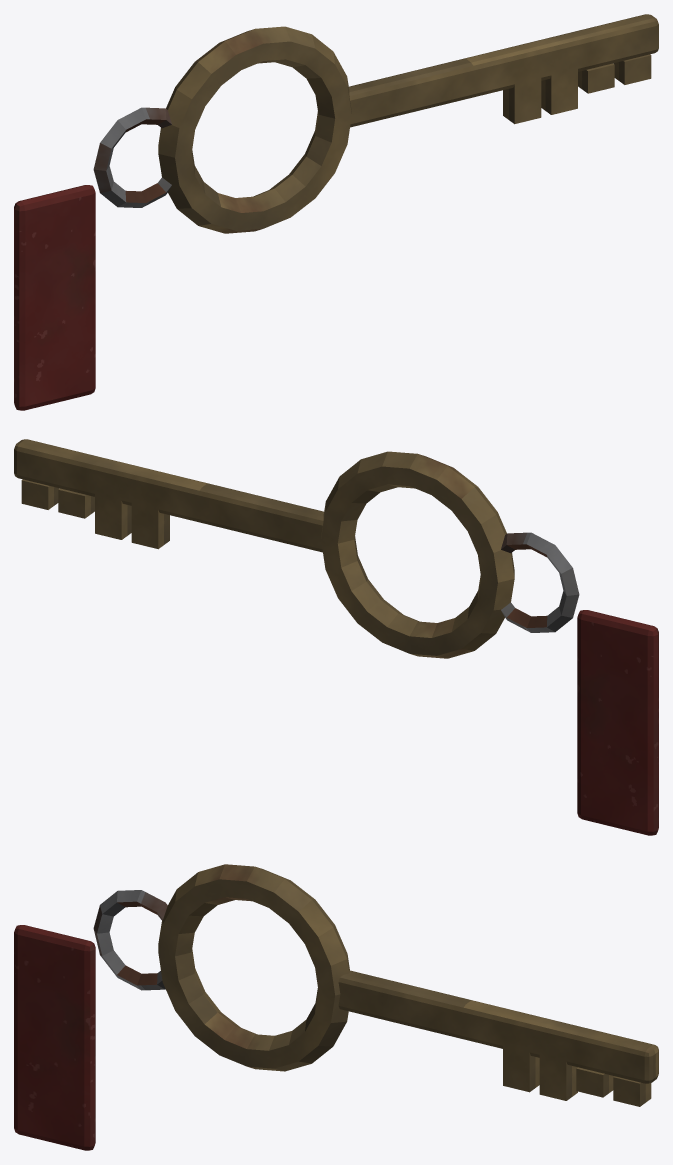
Rendered from G03_key_v2_red_tag.glb.
The picture shows the model from 3 angles, top to bottom: view 1: azimuth 30°, elevation 25°; view 2: azimuth 150°, elevation 25°; view 3: azimuth 330°, elevation 25°; orthographic projection.
Parts seen in each view (by area): view 1: G03_key_v2_red_tag; view 2: G03_key_v2_red_tag; view 3: G03_key_v2_red_tag.
Boxes of the visible parts, x1,y1,x2,y2 form: G03_key_v2_red_tag: [14, 14, 658, 410]; G03_key_v2_red_tag: [14, 439, 658, 835]; G03_key_v2_red_tag: [14, 864, 658, 1150].
Size of the model in its own units: 0.1 by 0.0484 by 0.00451.
3 materials, 3 textured.
